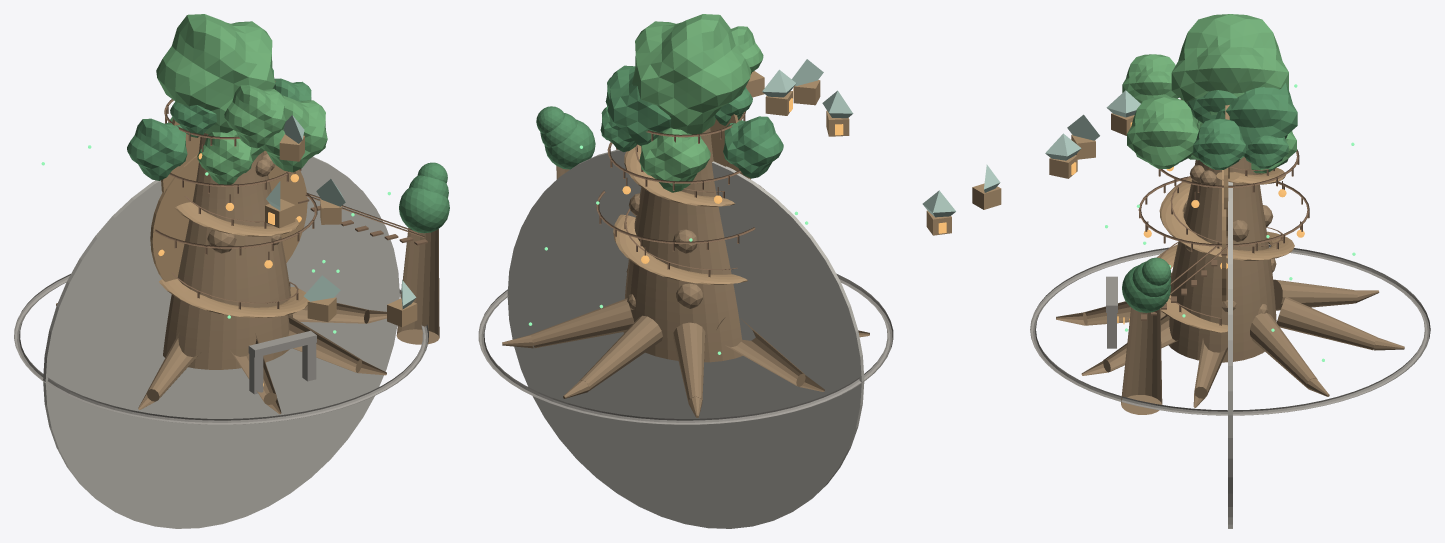
Rendered from grovekeep.glb.
3 renders of one model, left to right at view 1: azimuth 30°, elevation 25°; view 2: azimuth 150°, elevation 25°; view 3: azimuth 270°, elevation 25°, orthographic. The views are drawn at different scales.
Visible parts, largest first — view 1: plaza, trunk, canopy_12, deck_0, plaza_rim, ramp, sat_trunk, canopy_10, canopy_9, canopy_2, canopy_4, sat_canopy_0 (+17 smaller); view 2: plaza, trunk, canopy_12, plaza_rim, ramp, canopy_6, canopy_13, canopy_9, root_7, root_6, root_5, root_4 (+14 smaller); view 3: trunk, canopy_12, plaza_rim, ramp, canopy_2, sat_trunk, canopy_13, root_6, canopy_5, canopy_10, root_7, plaza (+11 smaller).
Part boxes in pixels (bbox=[...]): plaza: bbox=[43, 157, 399, 528]; trunk: bbox=[163, 133, 292, 369]; canopy_12: bbox=[156, 14, 275, 133]; deck_0: bbox=[150, 151, 307, 281]; plaza_rim: bbox=[14, 274, 428, 424]; ramp: bbox=[159, 202, 308, 317]; sat_trunk: bbox=[396, 227, 439, 344]; canopy_10: bbox=[224, 85, 285, 148]; canopy_9: bbox=[127, 118, 187, 180]; canopy_2: bbox=[260, 95, 327, 172]; canopy_4: bbox=[197, 132, 252, 184]; sat_canopy_0: bbox=[399, 187, 449, 233]; plaza: bbox=[507, 149, 864, 528]; trunk: bbox=[623, 128, 742, 362]; canopy_12: bbox=[632, 14, 751, 134]; plaza_rim: bbox=[478, 273, 893, 424]; ramp: bbox=[613, 145, 747, 284]; canopy_6: bbox=[639, 127, 710, 192]; canopy_13: bbox=[607, 65, 671, 146]; canopy_9: bbox=[723, 116, 783, 178]; root_7: bbox=[531, 298, 634, 347]; root_6: bbox=[579, 315, 662, 391]; root_5: bbox=[673, 322, 705, 402]; root_4: bbox=[716, 317, 804, 386]; trunk: bbox=[1165, 157, 1276, 362]; canopy_12: bbox=[1171, 14, 1288, 115]; plaza_rim: bbox=[1030, 245, 1430, 415]; ramp: bbox=[1156, 167, 1294, 332]; canopy_2: bbox=[1127, 97, 1198, 168]; sat_trunk: bbox=[1121, 307, 1162, 414]; canopy_13: bbox=[1215, 83, 1297, 148]; root_6: bbox=[1276, 296, 1377, 350]; canopy_5: bbox=[1193, 118, 1245, 169]; canopy_10: bbox=[1122, 54, 1178, 103]; root_7: bbox=[1250, 313, 1317, 388]; plaza: bbox=[1228, 181, 1232, 528].
Size of the model in its own units: 70.21 by 93.08 by 87.59.
